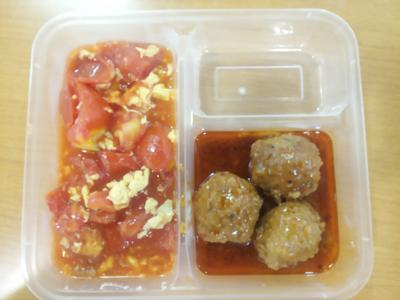jdxhs: (50, 40, 180, 278)
wz: (195, 132, 354, 282)
